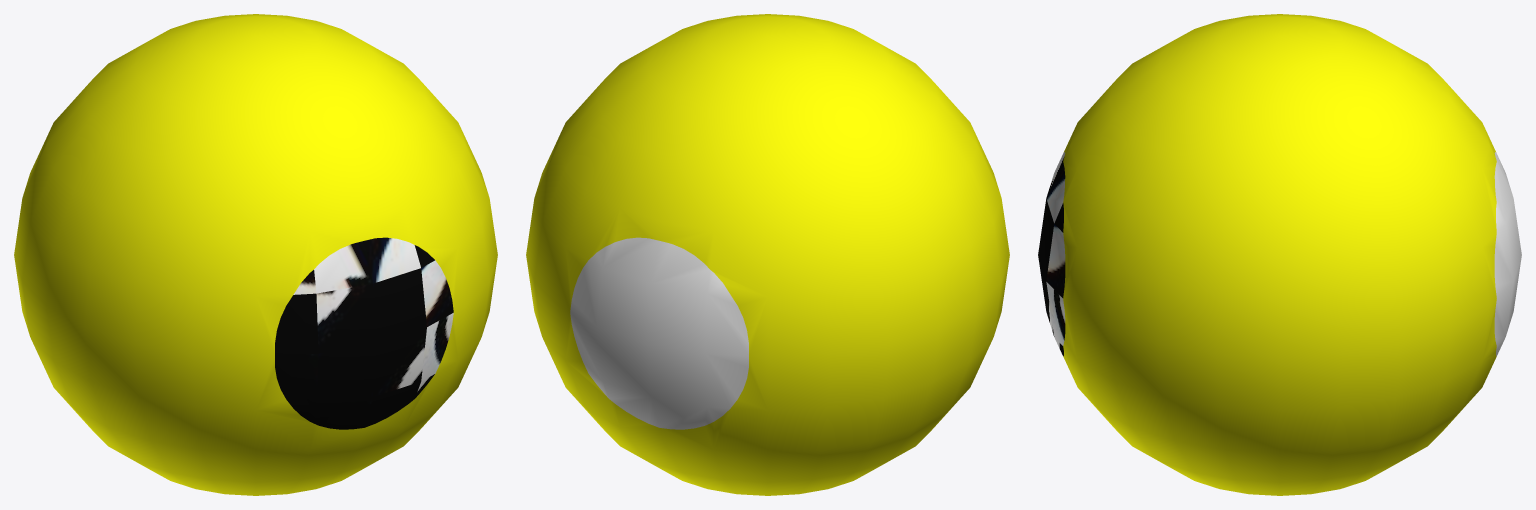
3 renders of one model, left to right at view 1: azimuth 30°, elevation 25°; view 2: azimuth 150°, elevation 25°; view 3: azimuth 270°, elevation 25°, orthographic.
Parts seen in each view (by area): view 1: Mesh3 solid1 Model, Mesh2 top__1_1 Model; view 2: Mesh3 solid1 Model, Mesh1 bottom__1_1 Model; view 3: Mesh3 solid1 Model, Mesh1 bottom__1_1 Model, Mesh2 top__1_1 Model.
Part boxes in pixels (x1,y1,x2,y2): Mesh3 solid1 Model: (14,14,497,495); Mesh2 top__1_1 Model: (275,237,453,429); Mesh3 solid1 Model: (526,14,1009,495); Mesh1 bottom__1_1 Model: (570,237,748,429); Mesh3 solid1 Model: (1063,14,1496,495); Mesh1 bottom__1_1 Model: (1494,152,1521,356); Mesh2 top__1_1 Model: (1038,152,1065,356).
Size of the model in its own units: 2.25 by 2.25 by 2.25.
3 materials, 1 textured.
